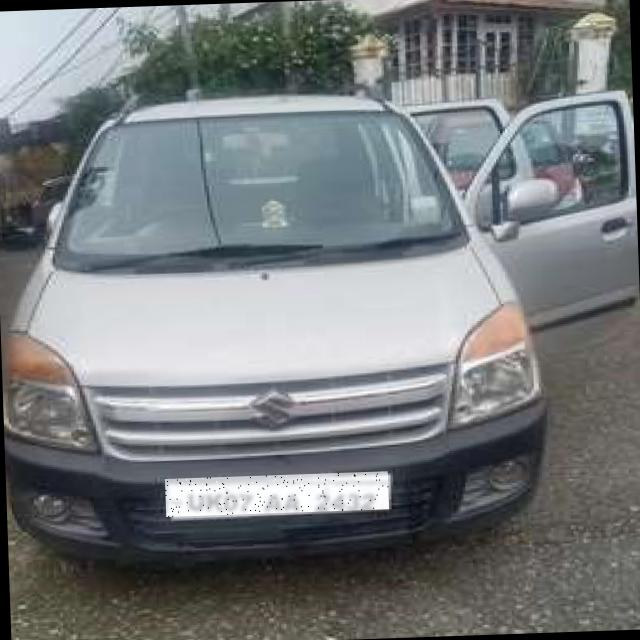Plate: (166, 472, 390, 518)
